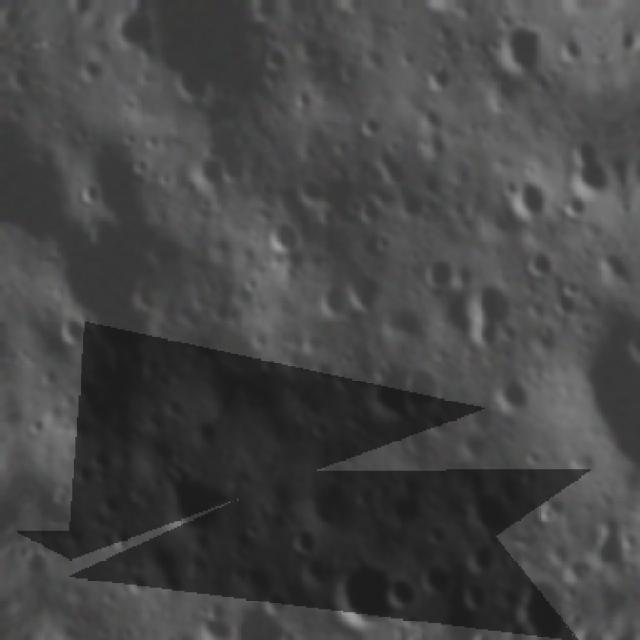crater: (322, 550, 406, 636), (485, 13, 553, 79), (464, 268, 522, 330), (498, 162, 554, 224), (399, 351, 453, 415), (161, 55, 224, 108), (341, 260, 388, 317), (483, 366, 534, 414), (254, 208, 303, 254), (309, 273, 354, 319), (380, 561, 418, 614), (462, 530, 508, 572), (50, 307, 92, 351), (283, 514, 325, 558), (188, 148, 229, 192), (194, 601, 240, 640), (418, 248, 458, 290), (518, 242, 562, 280), (422, 56, 460, 99), (414, 553, 454, 593), (558, 179, 593, 223), (406, 0, 491, 18), (452, 421, 492, 457), (257, 38, 295, 74), (456, 578, 493, 613), (1, 58, 38, 92), (299, 407, 336, 441), (350, 104, 384, 141), (102, 518, 138, 552), (151, 621, 214, 640), (82, 439, 118, 472), (71, 51, 107, 83), (65, 454, 100, 486), (122, 564, 156, 596), (418, 516, 454, 546), (93, 485, 124, 518), (72, 174, 100, 206), (0, 72, 3, 110)
